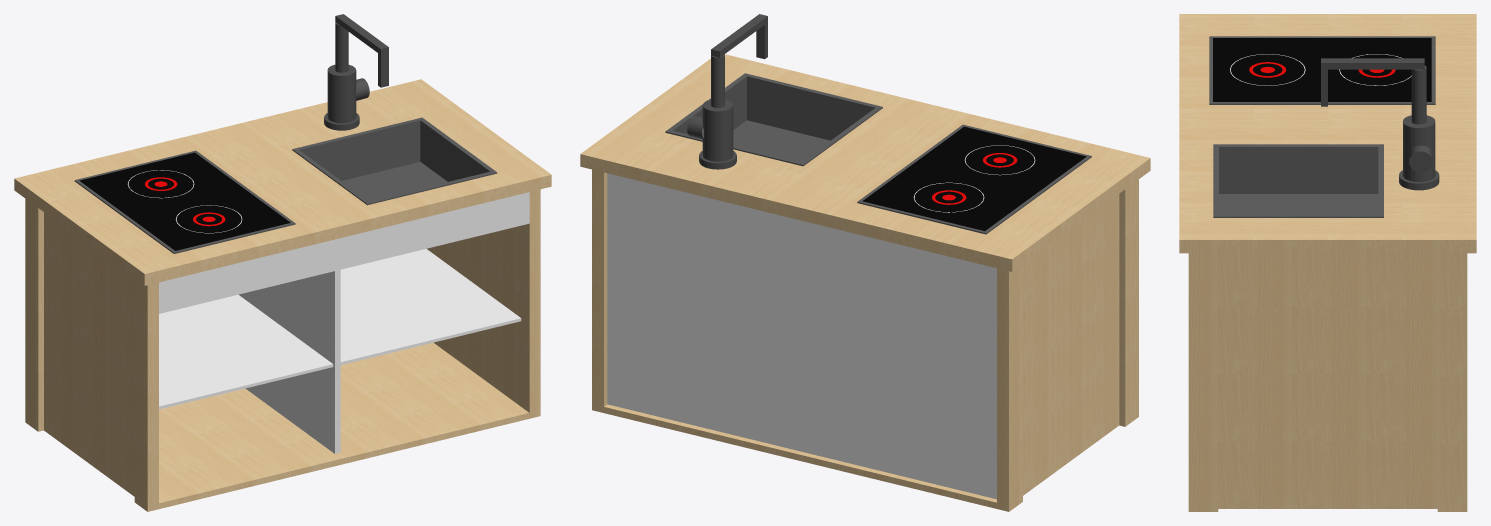
File: ikea_kitchen_body.min.dae
3 renders of one model, left to right at view 1: azimuth 30°, elevation 25°; view 2: azimuth 150°, elevation 25°; view 3: azimuth 270°, elevation 25°, orthographic. The views are drawn at different scales.
Parts seen in each view (by area): view 1: SketchUp (×13); view 2: SketchUp (×13); view 3: SketchUp (×12).
Boxes of the visible parts, <box> form: SketchUp (×13): <box>14,14,551,511</box>; SketchUp (×13): <box>580,14,1150,511</box>; SketchUp (×12): <box>1179,14,1476,511</box>.
Bounding box in the file's own units: 28.35 × 15.75 × 23.23.
Materials: 7 (3 with a texture image).
